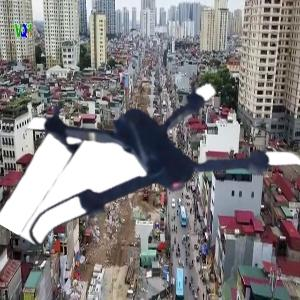drone: (27, 30, 296, 299)
